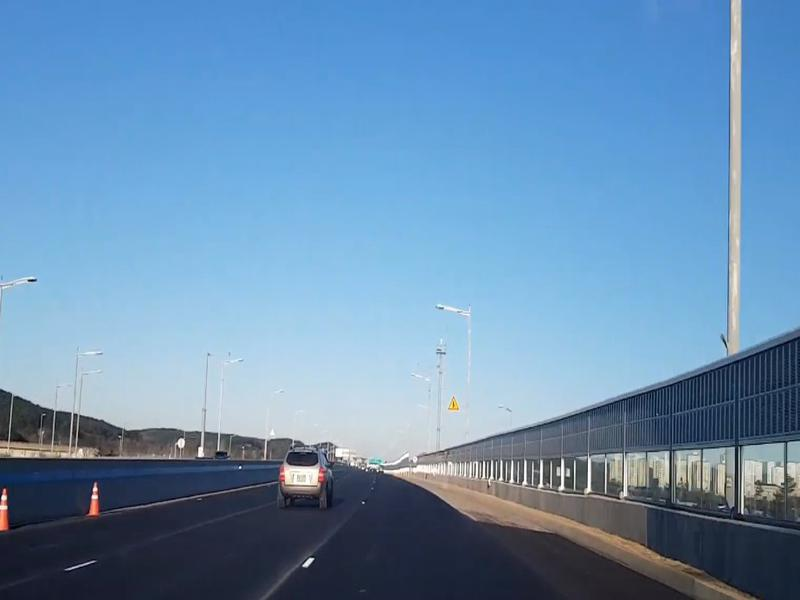car: (279, 446, 333, 506)
